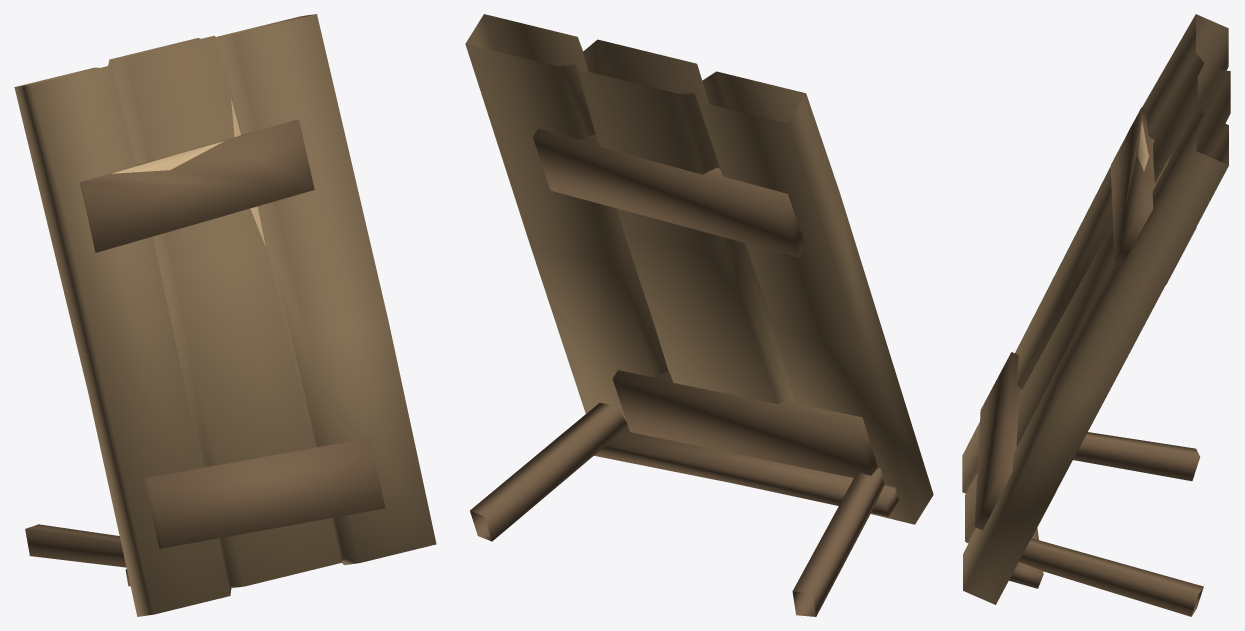
File: rpgpp_ag_window_04_shutter_b.fbx
3 renders of one model, left to right at view 1: azimuth 30°, elevation 25°; view 2: azimuth 150°, elevation 25°; view 3: azimuth 270°, elevation 25°, orthographic. The views are drawn at different scales.
Visible parts, largest first — view 1: rpgpp_ag_window_04_shutter_b; view 2: rpgpp_ag_window_04_shutter_b; view 3: rpgpp_ag_window_04_shutter_b.
Part boxes in pixels (x1=…): rpgpp_ag_window_04_shutter_b: x1=14, y1=14, x2=436, y2=616; rpgpp_ag_window_04_shutter_b: x1=465, y1=14, x2=933, y2=616; rpgpp_ag_window_04_shutter_b: x1=962, y1=14, x2=1230, y2=616.
Bounding box in the file's own units: 0.7865 × 1.17 × 0.609.
